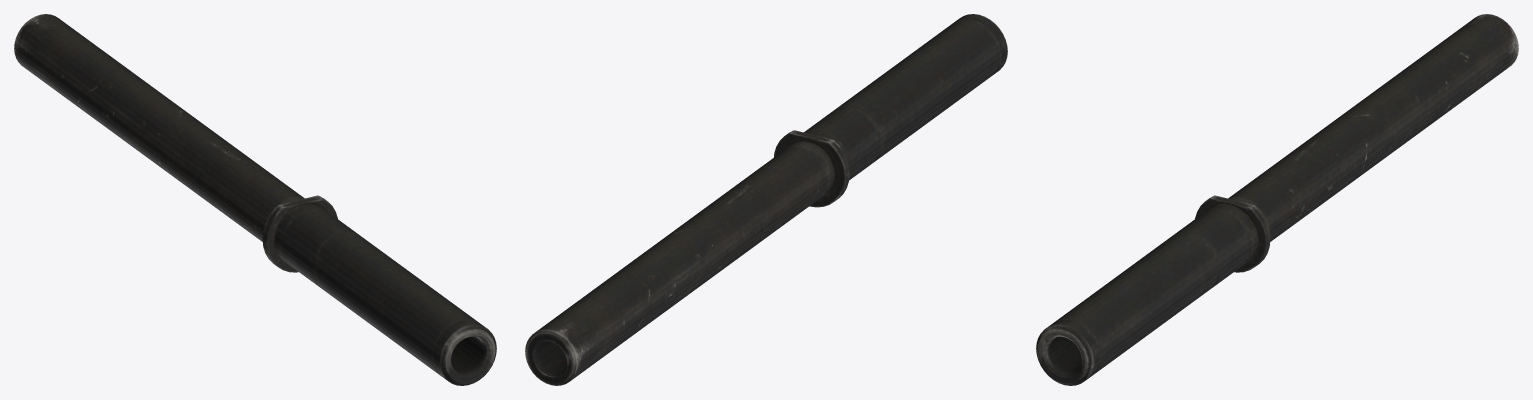
The picture shows the model from 3 angles, left to right: view 1: azimuth 30°, elevation 25°; view 2: azimuth 150°, elevation 25°; view 3: azimuth 330°, elevation 25°; orthographic projection.
Visible parts, largest first — view 1: TW_66867023c3d473265104f384_PZ_Import; view 2: TW_66867023c3d473265104f384_PZ_Import; view 3: TW_66867023c3d473265104f384_PZ_Import.
Part boxes in pixels (left/top/right/bottom): TW_66867023c3d473265104f384_PZ_Import: left=14, top=14, right=496, bottom=385; TW_66867023c3d473265104f384_PZ_Import: left=525, top=14, right=1007, bottom=385; TW_66867023c3d473265104f384_PZ_Import: left=1036, top=14, right=1518, bottom=385.
Bounding box in the file's own units: 0.0116 × 0.1214 × 0.0106.
1 material, 1 textured.
